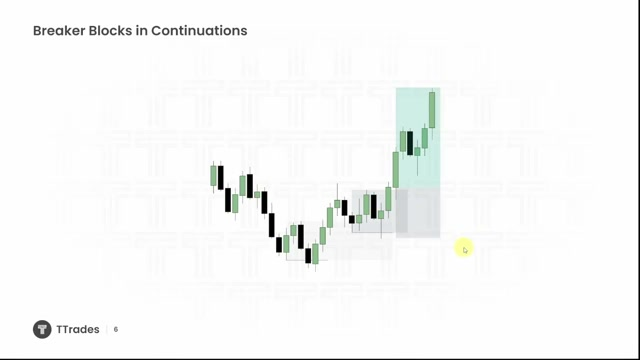bearish_reaction_zone: (396, 87, 441, 188)
protected_swing: (396, 87, 441, 188)
